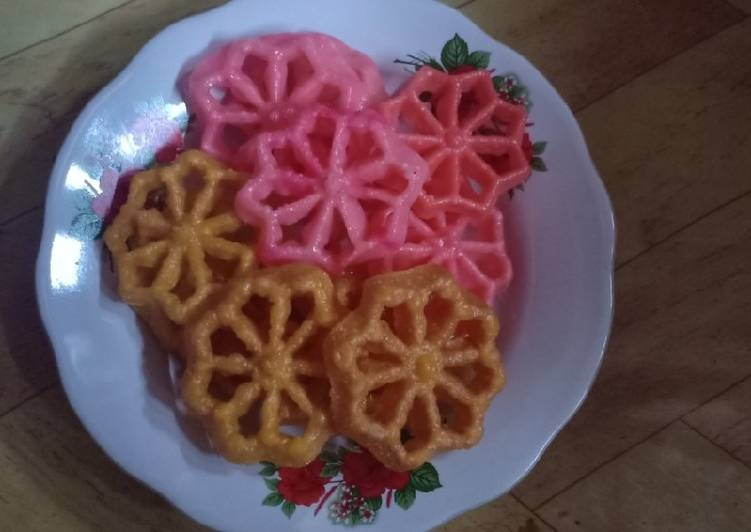kembang_goyang: (333, 265, 516, 485), (176, 266, 356, 473), (243, 102, 413, 266)
